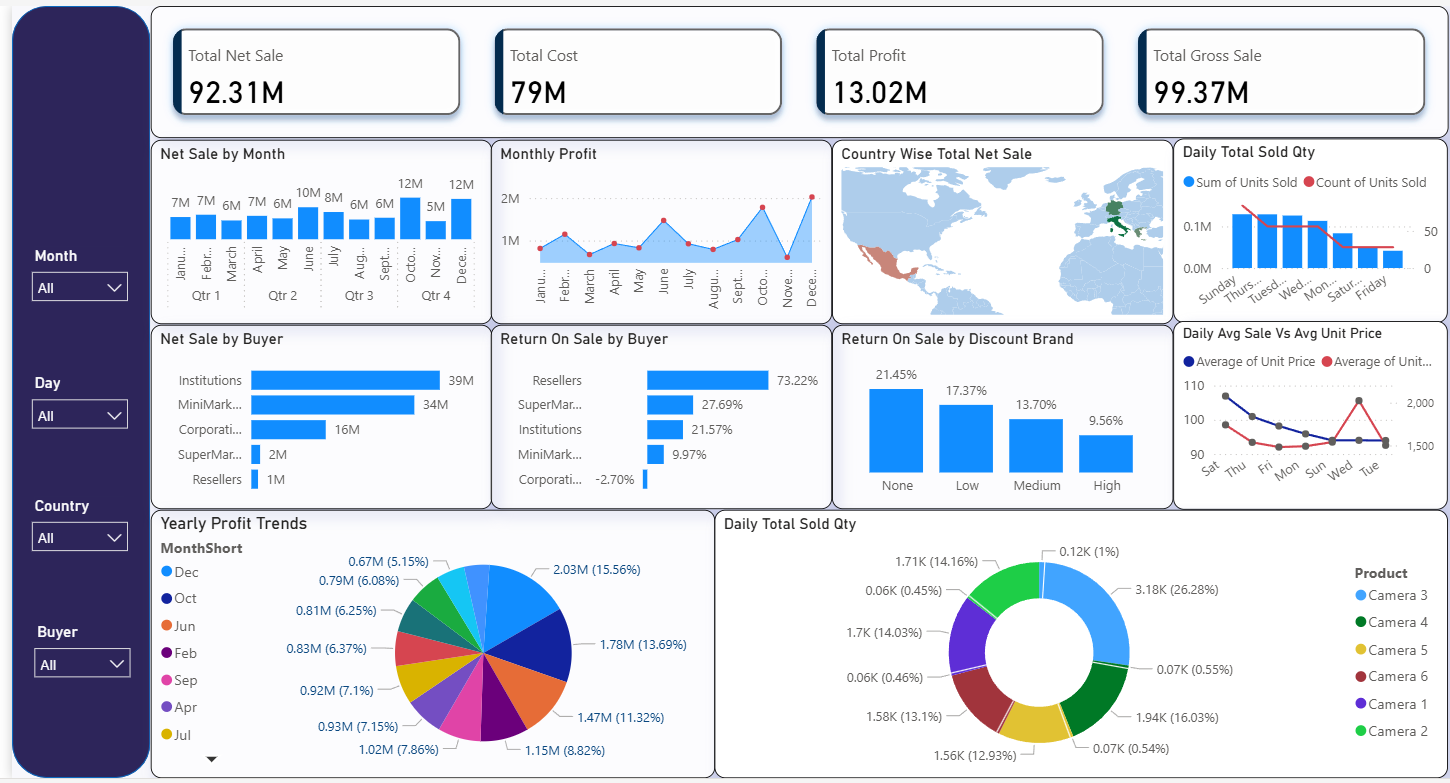

Layout of this report page (visuals, bound fields, positions):
{"tool":"powerbi","page":{"name":"Transaction Insight","canvas":[1350,720],"ordinal":1},"visuals":[{"type":"shape","box":[0,0,129,720],"z":0},{"type":"cardVisual","fields":{"Data":["All_Measure.Total Net Sale","All_Measure.Total Cost","All_Measure.Total Profit","All_Measure.Total Gross Sale"]},"box":[129,0,1210,123],"z":1000},{"type":"columnChart","title":"Net Sale by Month","fields":{"Y":["All_Measure.Total Net Sale"],"Category":["Calandar.Date.Variation.Date Hierarchy.Quarter","Calandar.Date.Variation.Date Hierarchy.Month"]},"box":[129,125,318,172],"z":2000},{"type":"areaChart","title":"Monthly Profit","fields":{"Category":["Calandar.Date.Variation.Date Hierarchy.Month"],"Y":["All_Measure.Total Profit"]},"box":[447,125,318,172],"z":3000},{"type":"shapeMap","title":"Country Wise Total Net Sale","fields":{"Category":["Transaction.Country"],"Value":["All_Measure.Total Net Sale"]},"box":[765,125,318,172],"z":4000},{"type":"barChart","title":"Net Sale by Buyer","fields":{"Category":["Transaction.Buyer Type"],"Y":["All_Measure.Total Net Sale"]},"box":[129,297,318,172],"z":5000},{"type":"barChart","title":"Return On Sale by Buyer","fields":{"Category":["Transaction.Buyer Type"],"Y":["All_Measure.Return On Sale"]},"box":[447,297,318,172],"z":6000},{"type":"columnChart","title":"Return On Sale by Discount Brand","fields":{"Category":["Transaction.Discount Band"],"Y":["All_Measure.Return On Sale"]},"box":[765,297,318,172],"z":7000},{"type":"slicer","title":"Month","fields":{"Values":["Calandar.Day Name"]},"box":[8,338,110,63],"z":8000},{"type":"slicer","title":"Month","fields":{"Values":["Transaction.Country"]},"box":[8,452,110,63],"z":9000},{"type":"slicer","title":"Month","fields":{"Values":["Transaction.Buyer Type"]},"box":[10,570,110,63],"z":10000},{"type":"slicer","title":"Month","fields":{"Values":["Calandar.Month Name"]},"box":[8,219,110,63],"z":11000},{"type":"lineStackedColumnComboChart","title":"Daily Total Sold Qty","fields":{"Category":["Calandar.Day Name"],"Y":["Sum(Transaction.Units Sold)"],"Y2":["Count(Transaction.Units Sold)"]},"box":[1083,123,256,172],"z":12000},{"type":"lineChart","title":"Daily Avg Sale Vs Avg Unit Price","fields":{"Y":["Avg(Transaction.Unit Price)"],"Y2":["Avg(Transaction.Units Sold)"],"Category":["Calandar.Day NameShort"]},"box":[1082.5,293.8,256.2,176.2],"z":13000},{"type":"pieChart","title":"Yearly Profit Trends","fields":{"Category":["Calandar.MonthShort"],"Y":["Sum(Transaction.Profit)"]},"box":[129,470,526,250],"z":14000},{"type":"donutChart","title":"Daily Total Sold Qty","fields":{"Category":["Transaction.Product"],"Y":["CountNonNull(Transaction.Units Sold)","Sum(Transaction.Net_Margin%)"]},"box":[655,470,684,250],"z":15000}]}

Visuals, with their boxes in screenshot pixels (x1, y1, x2, y2), scaled from the page's 1350x720 canvas onto the 1450x783 screenshot:
shape: bbox=[0, 0, 139, 782]
cardVisual - All_Measure.Total Net Sale x All_Measure.Total Cost: bbox=[139, 0, 1438, 134]
"Net Sale by Month" columnChart: bbox=[139, 136, 480, 323]
"Monthly Profit" areaChart: bbox=[480, 136, 822, 323]
"Country Wise Total Net Sale" shapeMap: bbox=[822, 136, 1163, 323]
"Net Sale by Buyer" barChart: bbox=[139, 323, 480, 510]
"Return On Sale by Buyer" barChart: bbox=[480, 323, 822, 510]
"Return On Sale by Discount Brand" columnChart: bbox=[822, 323, 1163, 510]
"Month" slicer: bbox=[9, 368, 127, 436]
"Month" slicer: bbox=[9, 492, 127, 560]
"Month" slicer: bbox=[11, 620, 129, 688]
"Month" slicer: bbox=[9, 238, 127, 307]
"Daily Total Sold Qty" lineStackedColumnComboChart: bbox=[1163, 134, 1438, 321]
"Daily Avg Sale Vs Avg Unit Price" lineChart: bbox=[1163, 320, 1438, 511]
"Yearly Profit Trends" pieChart: bbox=[139, 511, 704, 782]
"Daily Total Sold Qty" donutChart: bbox=[704, 511, 1438, 782]
